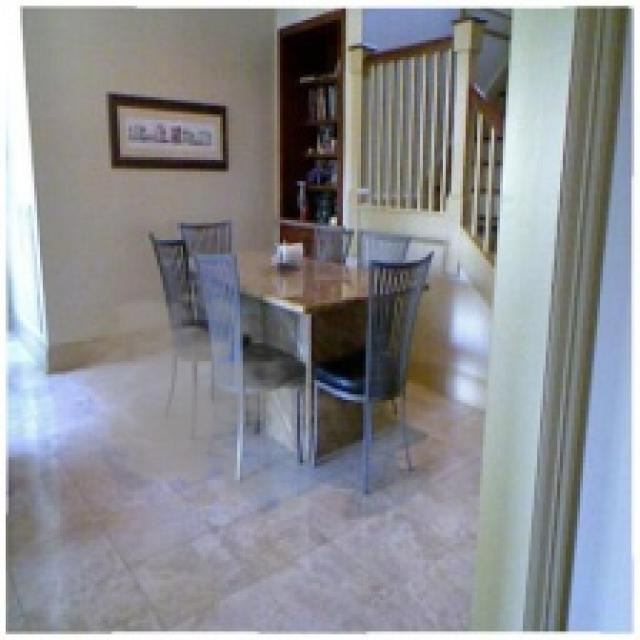smoke: (69, 274, 348, 526)
